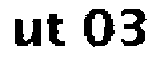0: (81, 7, 116, 48)
3: (118, 6, 146, 48)
t: (44, 10, 71, 48)
u: (10, 14, 43, 50)
